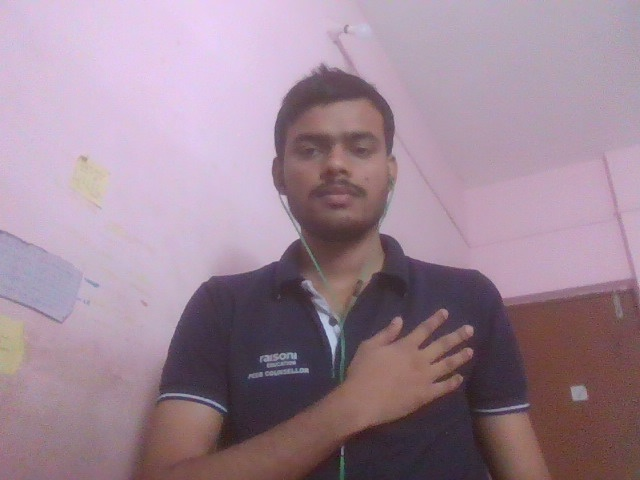Please: (165, 303, 578, 465)
